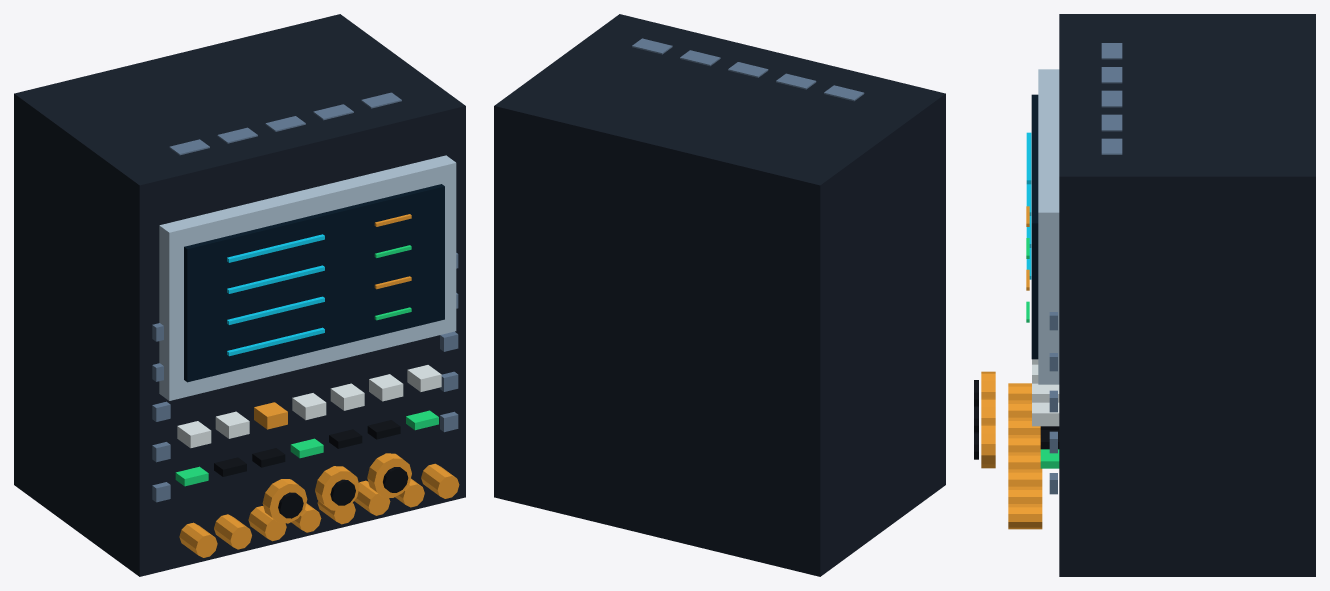
The model's file is 87_L89_RadiationScenarioDiagnosticRecorder.fbx.
3 renders of one model, left to right at view 1: azimuth 30°, elevation 25°; view 2: azimuth 150°, elevation 25°; view 3: azimuth 270°, elevation 25°, orthographic. The views are drawn at different scales.
Parts seen in each view (by area): view 1: L87_RadiationScenarioDiagnosticRecorder_Part_0000, L87_RadiationScenarioDiagnosticRecorder_Part_0002, L87_RadiationScenarioDiagnosticRecorder_Part_0001, L87_RadiationScenarioDiagnosticRecorder_Part_0004, L87_RadiationScenarioDiagnosticRecorder_Part_0008, L87_RadiationScenarioDiagnosticRecorder_Part_0006, L87_RadiationScenarioDiagnosticRecorder_Part_0003, L87_RadiationScenarioDiagnosticRecorder_Part_0007, L87_RadiationScenarioDiagnosticRecorder_Part_0005, L87_RadiationScenarioDiagnosticRecorder_Part_0009, L87_RadiationScenarioDiagnosticRecorder_Part_0011, L87_RadiationScenarioDiagnosticRecorder_Part_0013; view 2: L87_RadiationScenarioDiagnosticRecorder_Part_0000, L87_RadiationScenarioDiagnosticRecorder_Part_0008; view 3: L87_RadiationScenarioDiagnosticRecorder_Part_0000, L87_RadiationScenarioDiagnosticRecorder_Part_0001, L87_RadiationScenarioDiagnosticRecorder_Part_0004, L87_RadiationScenarioDiagnosticRecorder_Part_0008, L87_RadiationScenarioDiagnosticRecorder_Part_0002, L87_RadiationScenarioDiagnosticRecorder_Part_0006, L87_RadiationScenarioDiagnosticRecorder_Part_0003, L87_RadiationScenarioDiagnosticRecorder_Part_0013, L87_RadiationScenarioDiagnosticRecorder_Part_0005.
Boxes of the visible parts, x1,y1,x2,y2 form: L87_RadiationScenarioDiagnosticRecorder_Part_0000: (14, 14, 465, 576); L87_RadiationScenarioDiagnosticRecorder_Part_0002: (184, 184, 444, 382); L87_RadiationScenarioDiagnosticRecorder_Part_0001: (159, 155, 456, 400); L87_RadiationScenarioDiagnosticRecorder_Part_0004: (179, 214, 459, 557); L87_RadiationScenarioDiagnosticRecorder_Part_0008: (152, 92, 458, 502); L87_RadiationScenarioDiagnosticRecorder_Part_0006: (177, 365, 441, 448); L87_RadiationScenarioDiagnosticRecorder_Part_0003: (227, 234, 324, 356); L87_RadiationScenarioDiagnosticRecorder_Part_0007: (214, 420, 400, 476); L87_RadiationScenarioDiagnosticRecorder_Part_0005: (175, 245, 438, 486); L87_RadiationScenarioDiagnosticRecorder_Part_0009: (262, 479, 307, 523); L87_RadiationScenarioDiagnosticRecorder_Part_0011: (315, 466, 359, 510); L87_RadiationScenarioDiagnosticRecorder_Part_0013: (367, 453, 411, 497); L87_RadiationScenarioDiagnosticRecorder_Part_0000: (494, 14, 945, 576); L87_RadiationScenarioDiagnosticRecorder_Part_0008: (632, 38, 864, 101); L87_RadiationScenarioDiagnosticRecorder_Part_0000: (1059, 14, 1315, 576); L87_RadiationScenarioDiagnosticRecorder_Part_0001: (1038, 69, 1059, 384); L87_RadiationScenarioDiagnosticRecorder_Part_0004: (1008, 206, 1042, 529); L87_RadiationScenarioDiagnosticRecorder_Part_0008: (1049, 43, 1122, 494); L87_RadiationScenarioDiagnosticRecorder_Part_0002: (1031, 94, 1038, 359); L87_RadiationScenarioDiagnosticRecorder_Part_0006: (1032, 359, 1059, 426); L87_RadiationScenarioDiagnosticRecorder_Part_0003: (1026, 132, 1031, 279); L87_RadiationScenarioDiagnosticRecorder_Part_0013: (981, 423, 995, 468); L87_RadiationScenarioDiagnosticRecorder_Part_0005: (1026, 238, 1059, 468).
Bounding box in the file's own units: 112 × 129 × 99.6.
